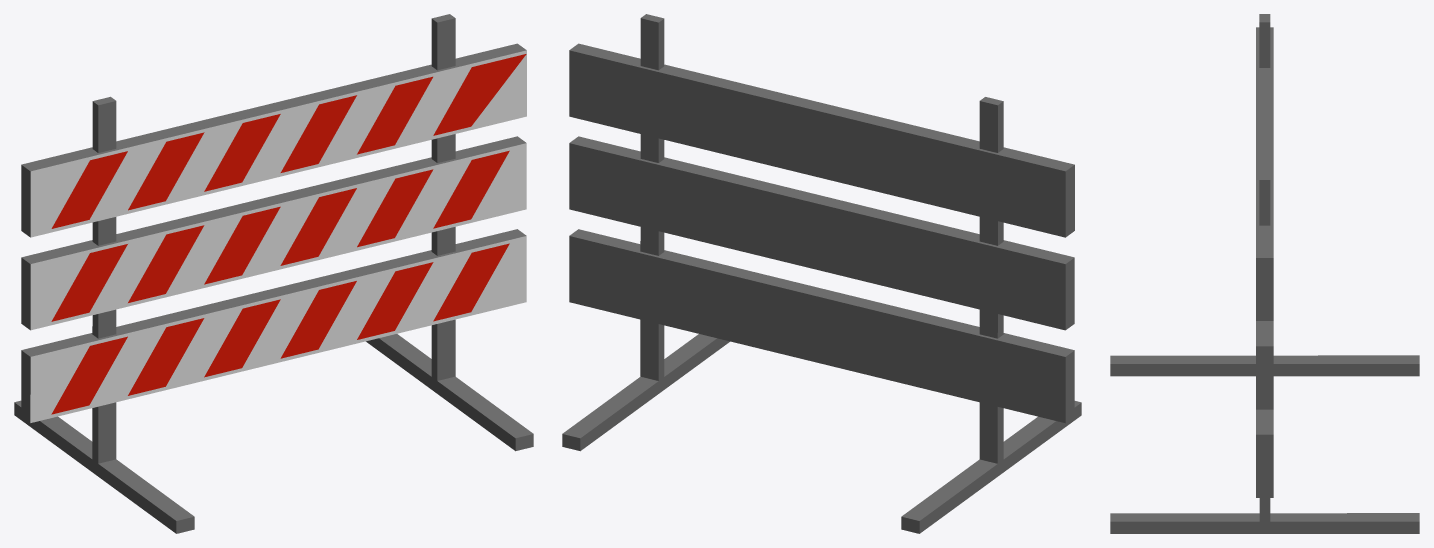
File: TrafficBarrier_1.011.fbx
3 views of the same model, side by side, from view 1: azimuth 30°, elevation 25°; view 2: azimuth 150°, elevation 25°; view 3: azimuth 270°, elevation 25° (orthographic). The views are drawn at different scales.
Parts seen in each view (by area): view 1: TrafficBarrier_1_011; view 2: TrafficBarrier_1_011; view 3: TrafficBarrier_1_011.
Part boxes in pixels (x1,y1,x2,y2): TrafficBarrier_1_011: (14,14,533,533); TrafficBarrier_1_011: (562,14,1081,533); TrafficBarrier_1_011: (1110,14,1419,533).
Size of the model in its own units: 280 by 200 by 159.
